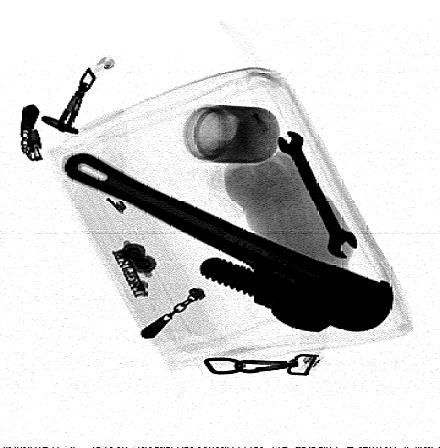Wrench: (63, 151, 395, 334), (277, 130, 358, 258)
